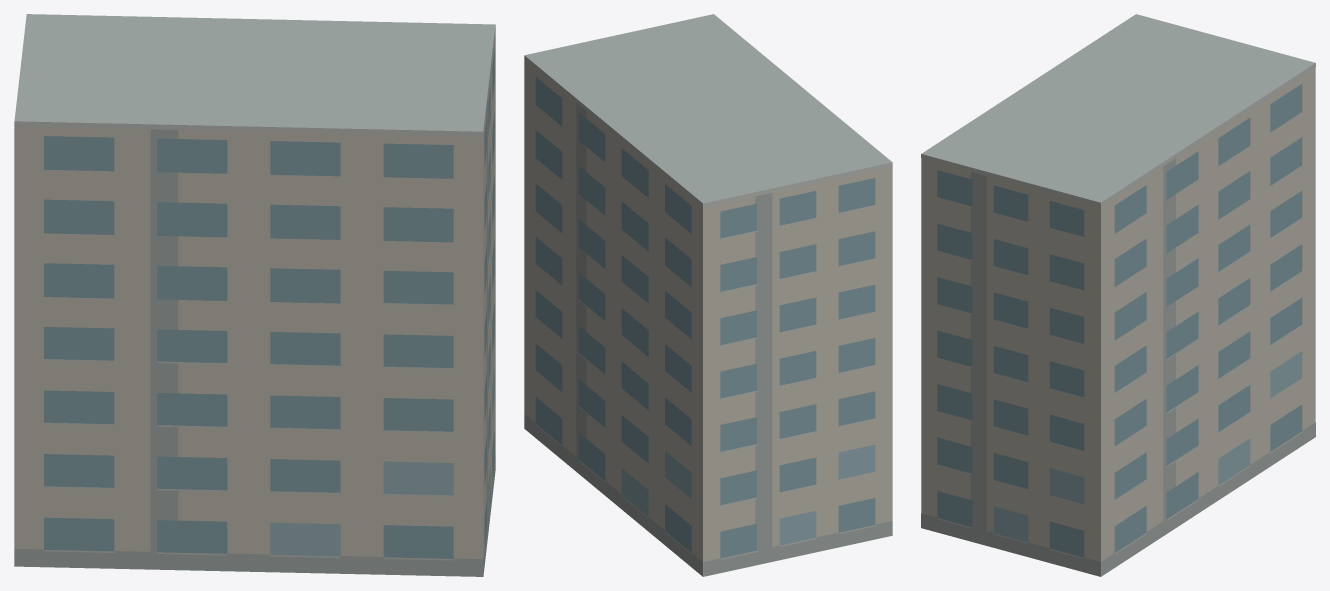
Rendered from survey-upis-32915970.glb.
The picture shows the model from 3 angles, left to right: view 1: azimuth 30°, elevation 25°; view 2: azimuth 150°, elevation 25°; view 3: azimuth 270°, elevation 25°; orthographic projection. The views are drawn at different scales.
Visible parts, largest first — view 1: survey-upis-32915970.tmp; view 2: survey-upis-32915970.tmp; view 3: survey-upis-32915970.tmp.
Boxes of the visible parts, x1,y1,x2,y2 form: survey-upis-32915970.tmp: [14, 14, 495, 576]; survey-upis-32915970.tmp: [524, 14, 892, 576]; survey-upis-32915970.tmp: [921, 14, 1315, 576].
Bounding box in the file's own units: 23.1 × 21.35 × 20.41.
